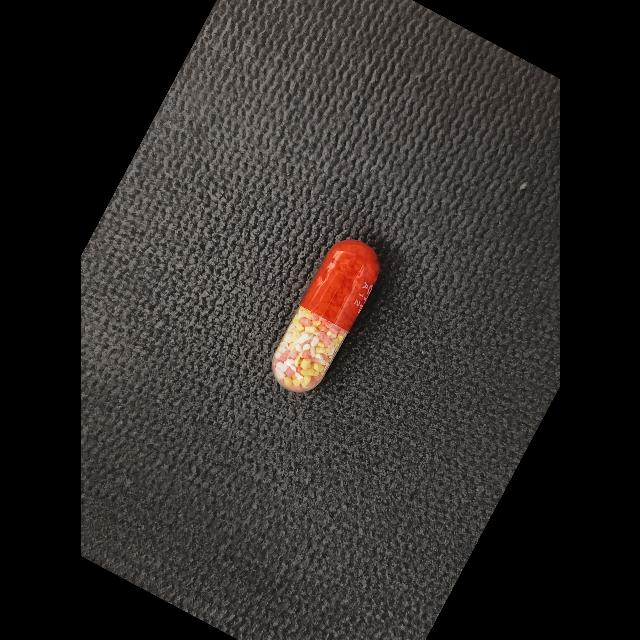Intact Capsule: (271, 240, 379, 392)
